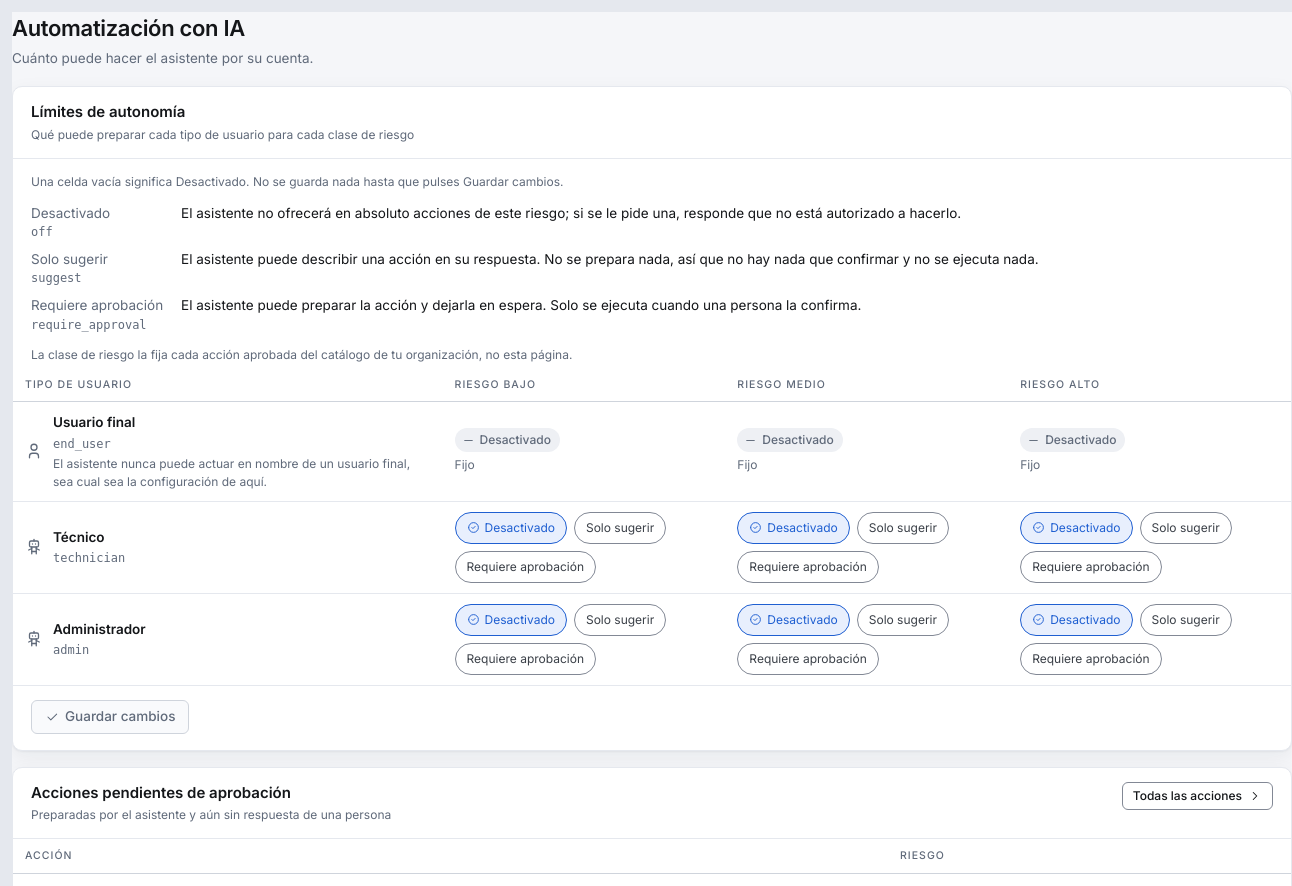
Test: AutonomyDialPage in Spanish › discards an edit
Click the 1st button "Solo sugerir": (620, 528) [574,512,666,544]
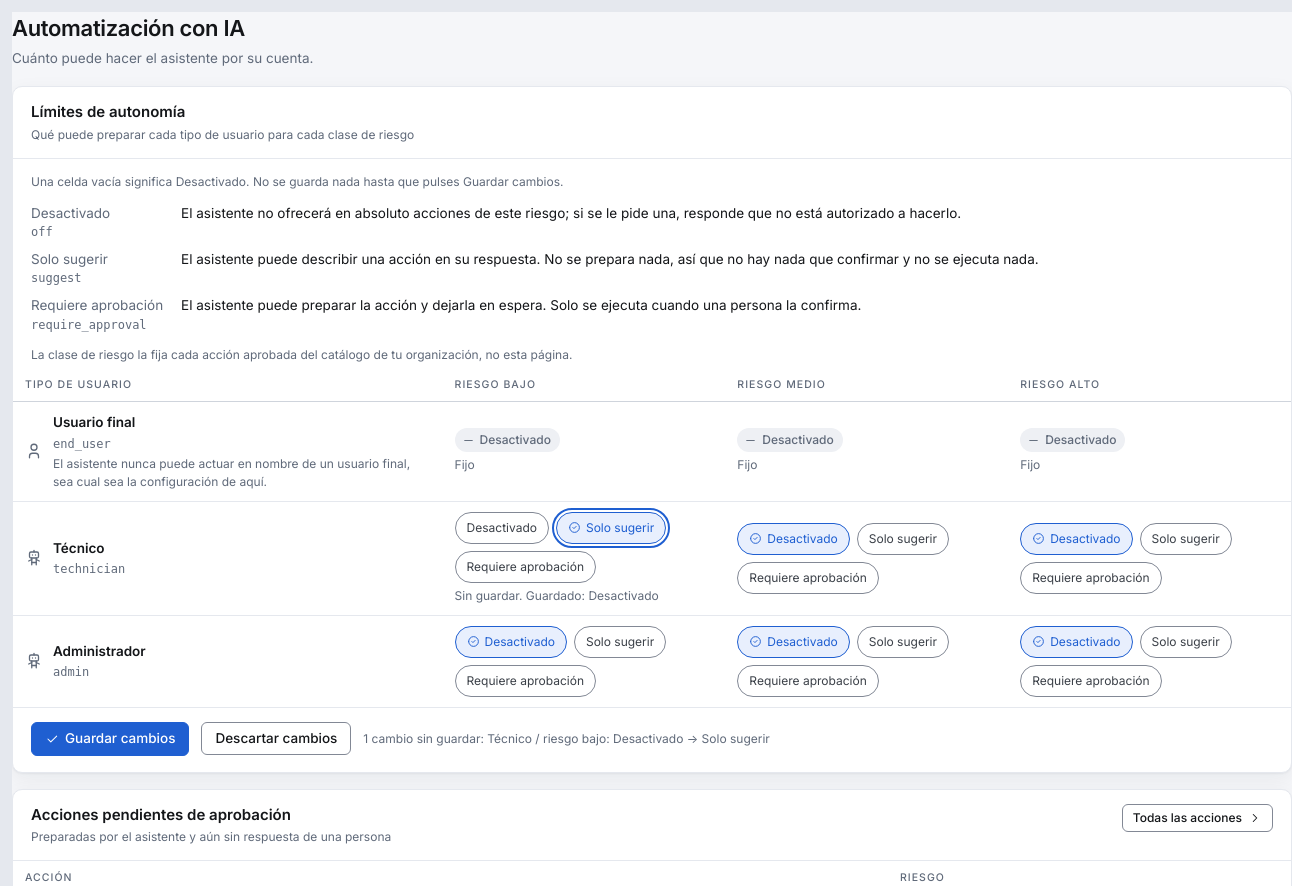
Click the button "Descartar cambios": (276, 739) [201,722,351,755]
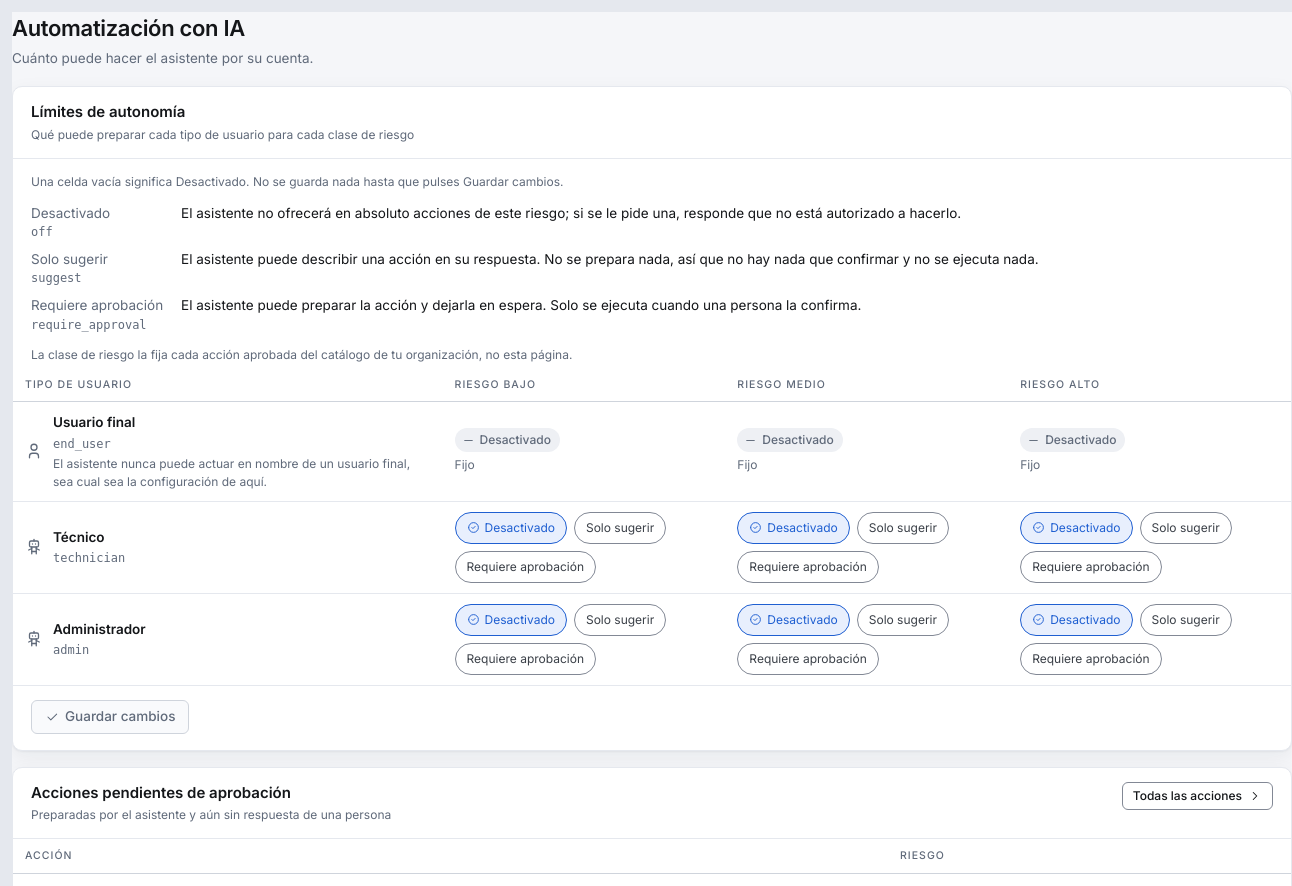
expect the text "cambio sin guardar" is gone: met
